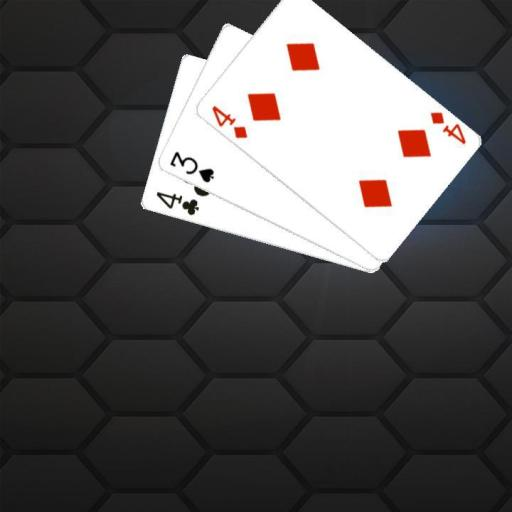3S: (166, 148, 216, 184)
4C: (152, 188, 200, 217)
4D: (208, 102, 249, 140), (426, 108, 467, 146)
